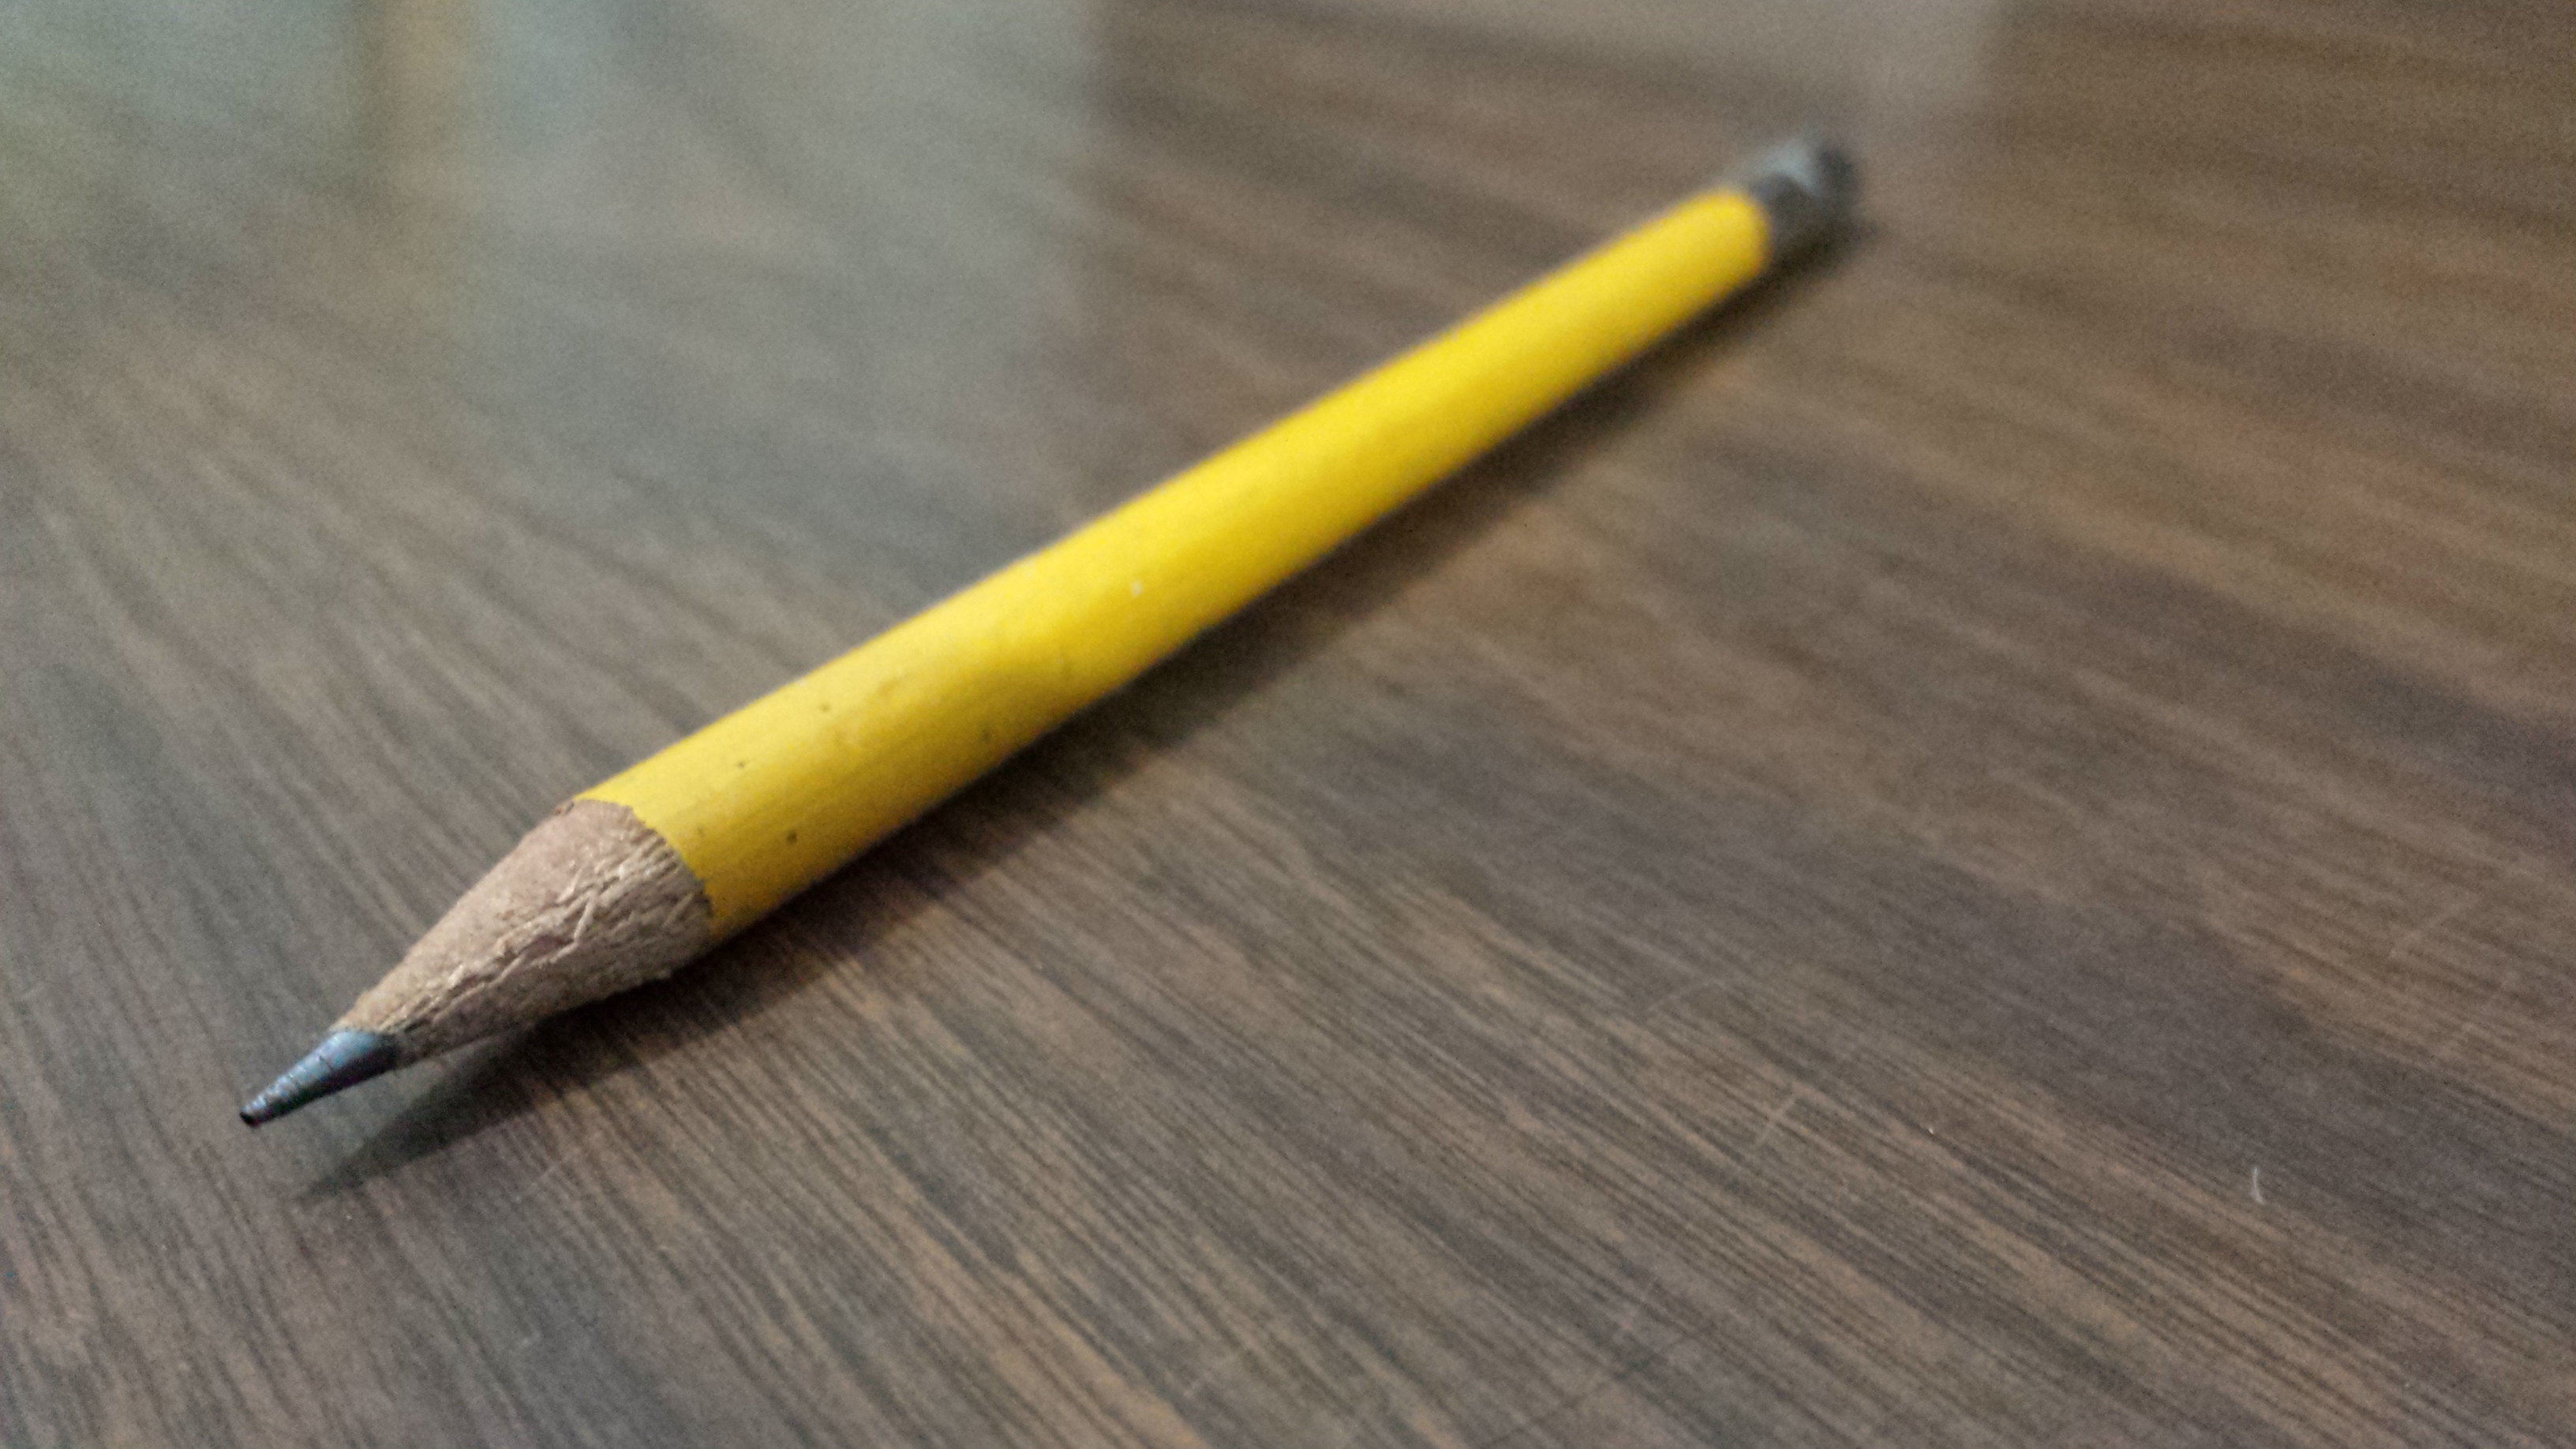pen_tip: (138, 747, 807, 1194)
